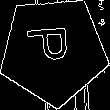P_E: (28, 30, 80, 71)
